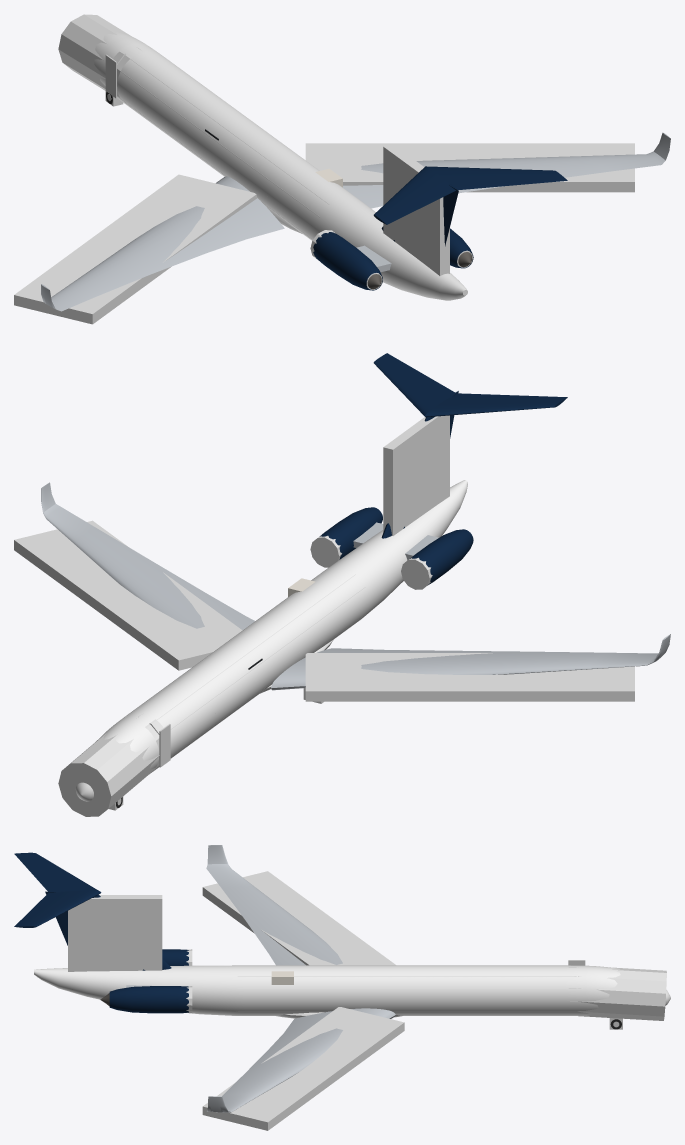
3 views of the same model, one above another, from view 1: azimuth 30°, elevation 25°; view 2: azimuth 150°, elevation 25°; view 3: azimuth 270°, elevation 25° (orthographic). The views are drawn at different scales.
Visible parts, largest first — view 1: gl7t_lod0, COL_wing_L, COL_wing_R, COL_fin, COL_fuselage_front, COL_fuselage_mid; view 2: gl7t_lod0, COL_wing_L, COL_wing_R, COL_fin, COL_fuselage_front, COL_fuselage_mid, COL_engine_L, COL_engine_R; view 3: gl7t_lod0, COL_wing_R, COL_fin, COL_wing_L, COL_fuselage_front, COL_fuselage_mid.
Part boxes in pixels (x1,y1,x2,y2): gl7t_lod0: (41,32,670,311); COL_wing_L: (14,174,257,324); COL_wing_R: (305,143,634,192); COL_fin: (383,144,449,275); COL_fuselage_front: (58,14,137,90); COL_fuselage_mid: (117,48,354,239); gl7t_lod0: (41,353,670,801); COL_wing_L: (305,653,634,701); COL_wing_R: (14,520,242,670); COL_fin: (383,415,449,535); COL_fuselage_front: (58,718,159,816); COL_fuselage_mid: (125,569,365,756); COL_engine_L: (401,557,432,589); COL_engine_R: (310,535,341,567); gl7t_lod0: (14,845,670,1112); COL_wing_R: (202,1007,404,1130); COL_fin: (68,895,162,971); COL_wing_L: (202,871,395,965); COL_fuselage_front: (576,967,666,1020); COL_fuselage_mid: (237,967,576,1011).
Size of what is drawn, in the model's own units: 31.64 by 8.09 by 34.87.
